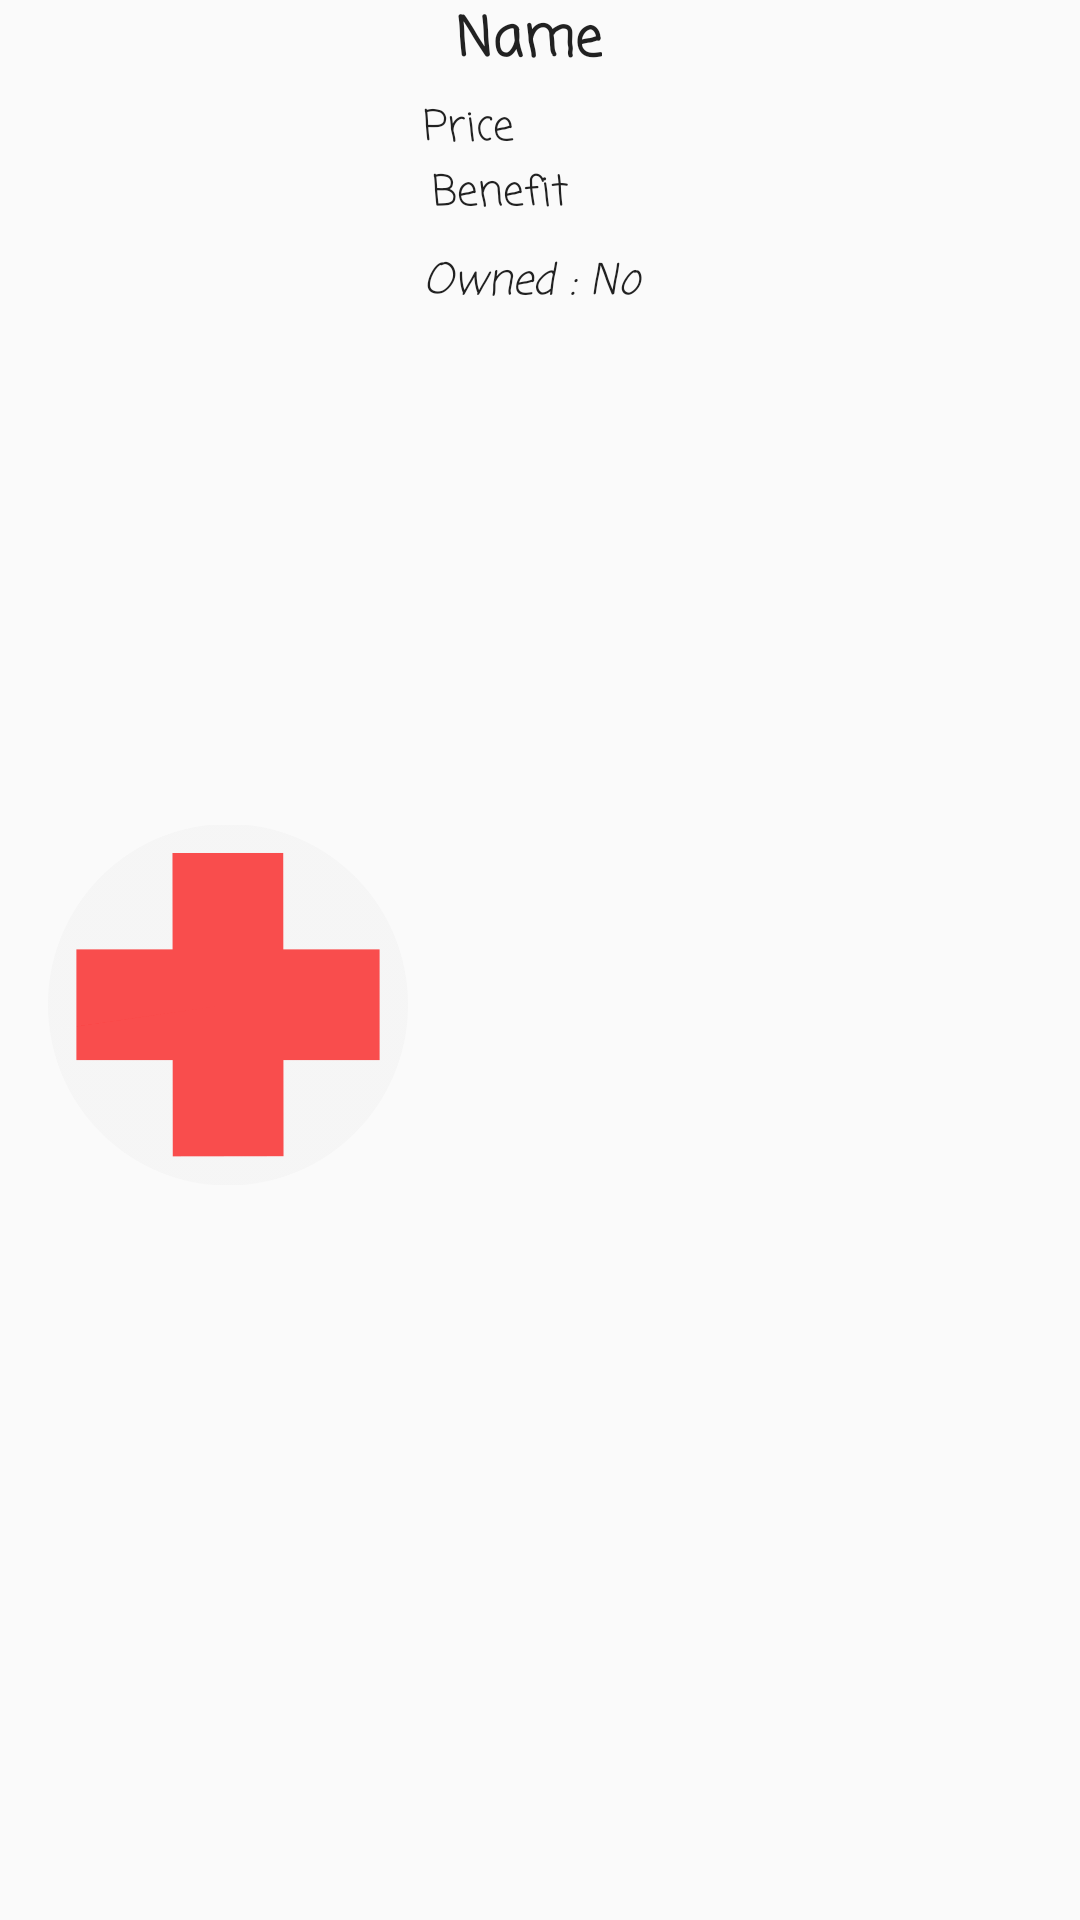

Icon click points for this 1080×1920 phone screenshot, format point (x, y):
health: point (228, 1005)
